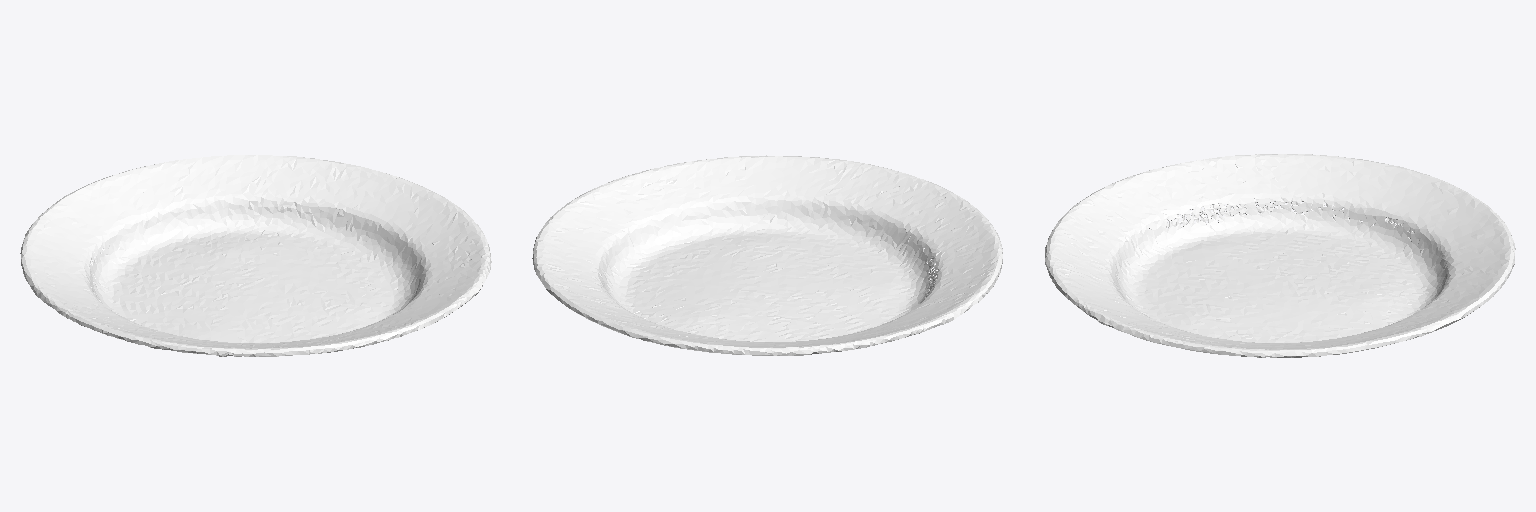
URDF robot description (029_plate):
<?xml version="1.0"?>
<robot name="029_plate">
	<link name="_name">
		<visual>
			<origin rpy="0 0 0" xyz="0 0 0" />
			<geometry>
				<mesh filename="029_plate/google_16k/textured.obj" scale="1 1 1" />
			</geometry>
			<material name="texture">
				<color rgba="1.0 1.0 1.0 1.0" />
			</material>
		</visual>
		<collision>
			<origin rpy="0 0 0" xyz="0 0 0" />
			<geometry>
				<mesh filename="029_plate/google_16k/textured_vhacd.obj" scale="1 1 1" />
			</geometry>
		</collision>
		<inertial>
			<origin rpy="0 0 0" xyz="0 0 0" /> 
			<mass value="0.279" />
			<inertia ixx="1.0" ixy="0.0" ixz="0.0" iyy="1.0" iyz="0.0" izz="1.0" />
		</inertial>
	</link>
</robot>

--- Facts derived from the render (not from the file) ---
The picture shows the robot from 3 angles, left to right: view 1: azimuth 30°, elevation 25°; view 2: azimuth 150°, elevation 25°; view 3: azimuth 270°, elevation 25°; orthographic projection.
Robot: 029_plate — 1 links, 0 joints (none); root link _name; default pose: all joints at 0.
Links seen in each view (by area): view 1: _name; view 2: _name; view 3: _name.
Boxes of the visible links, <box> form: _name: <box>20,155,491,356</box>; _name: <box>532,155,1002,355</box>; _name: <box>1045,154,1515,357</box>.
Bounding box of the posed robot: 0.2611 × 0.2602 × 0.0267 m (x, y, z).
1 mesh visuals loaded from 1 distinct referenced files (1 OBJ).
